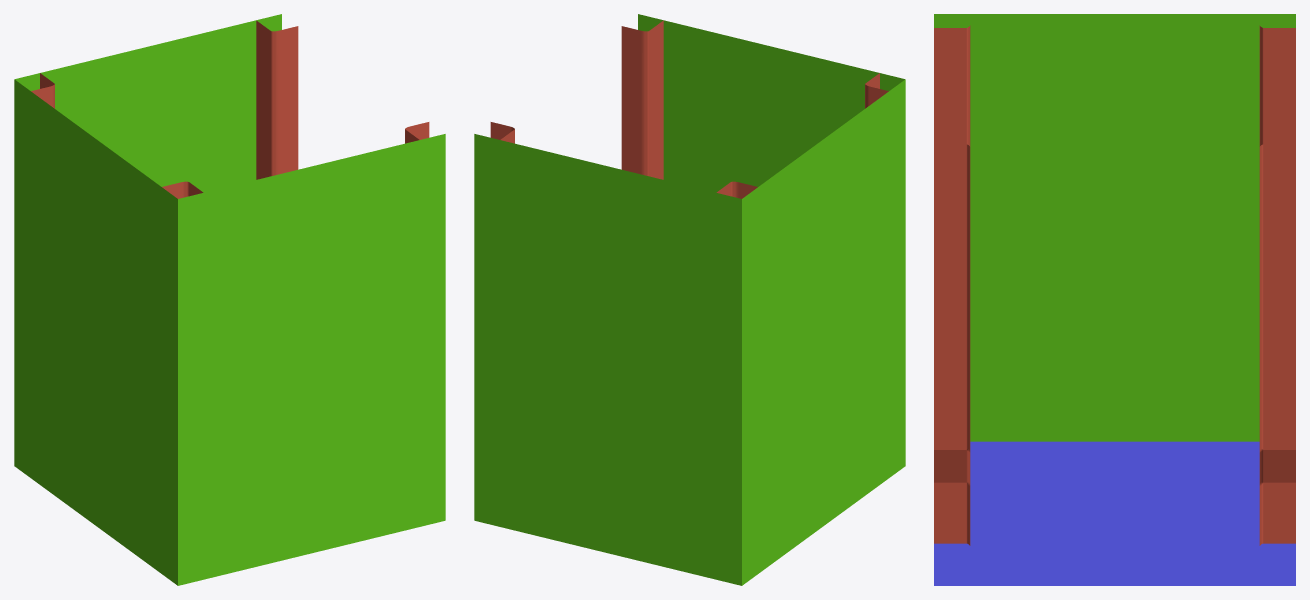
File: L1V2_Small_Passage_P5.fbx
3 views of the same model, side by side, from view 1: azimuth 30°, elevation 25°; view 2: azimuth 150°, elevation 25°; view 3: azimuth 270°, elevation 25° (orthographic). The views are drawn at different scales.
Parts seen in each view (by area): view 1: Wall.023; view 2: Wall.023; view 3: Wall.023.
Boxes of the visible parts, x1=… form: Wall.023: x1=14, y1=14, x2=445, y2=585; Wall.023: x1=474, y1=14, x2=905, y2=585; Wall.023: x1=934, y1=14, x2=1295, y2=585.
Bounding box in the file's own units: 506 × 700 × 537.
